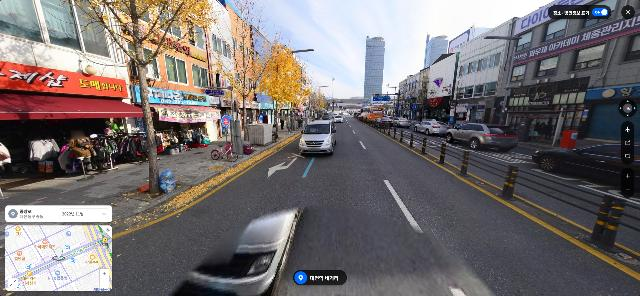ginkgo: (86, 0, 220, 195), (215, 0, 281, 154), (253, 43, 312, 142), (284, 60, 317, 133)
